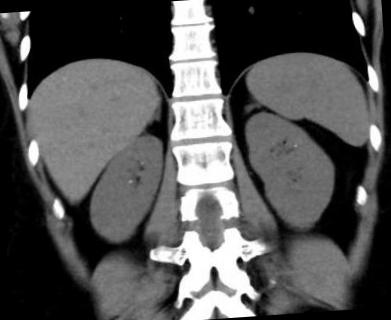Tas_Var: (291, 142, 299, 149), (138, 160, 145, 166), (126, 178, 134, 183)
